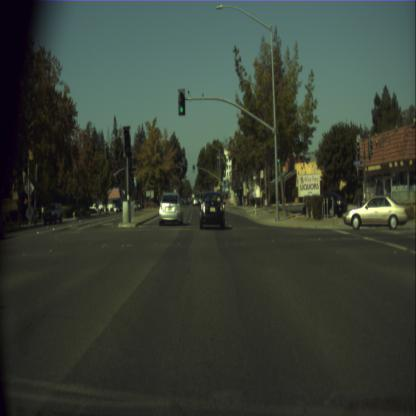Green: (178, 88, 185, 116), (276, 146, 280, 164), (192, 164, 194, 172), (224, 180, 226, 186)
RedLeft: (123, 124, 130, 158)
